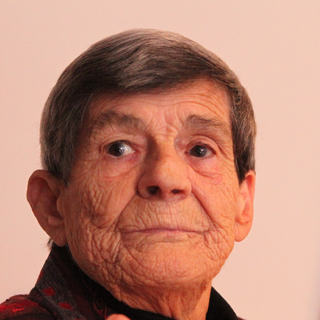eye: (94, 138, 143, 161), (177, 138, 223, 162)
